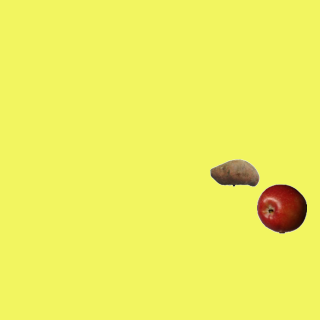Apple Braeburn: (256, 183, 306, 233)
Potato Sweet: (209, 147, 259, 197)
